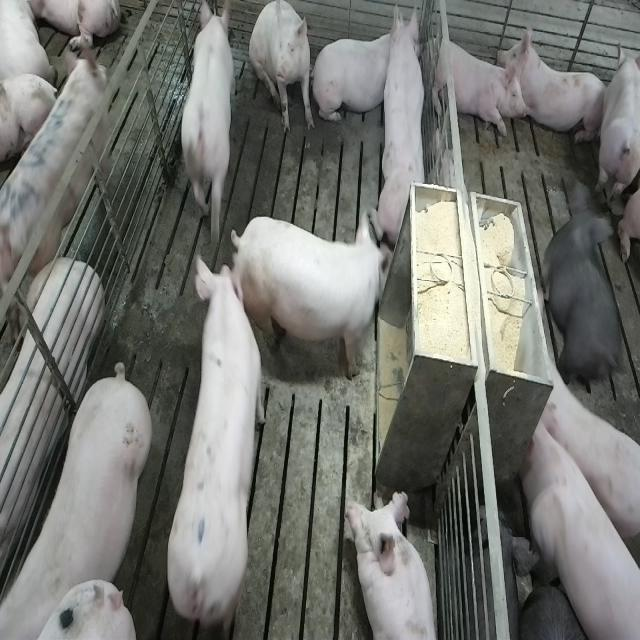Feeding: (225, 208, 391, 389)
Lateral_lying: (0, 261, 102, 588)
Sitting: (376, 8, 430, 248), (248, 1, 315, 138)
Standing: (6, 360, 155, 634), (162, 246, 262, 637), (0, 52, 114, 345), (526, 368, 638, 586), (520, 459, 638, 640), (540, 178, 623, 404), (180, 5, 236, 241)
Sternal_lying: (346, 488, 441, 640), (500, 20, 608, 145), (426, 30, 519, 138), (314, 30, 401, 124)
